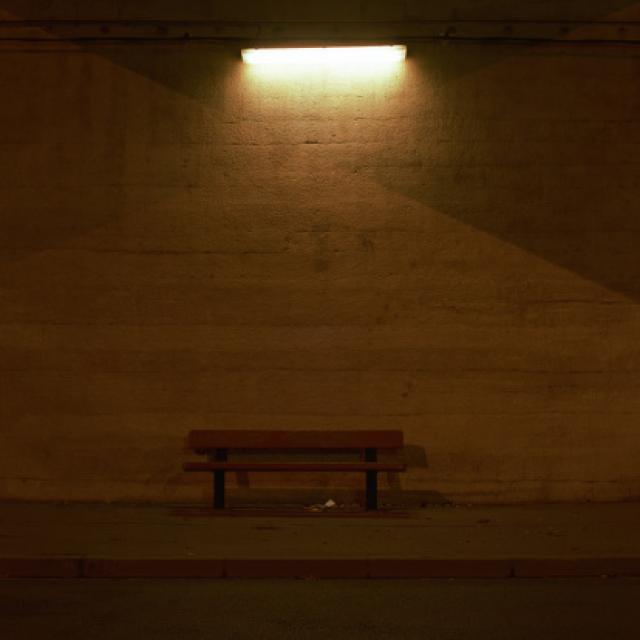chair: (166, 418, 408, 532)
